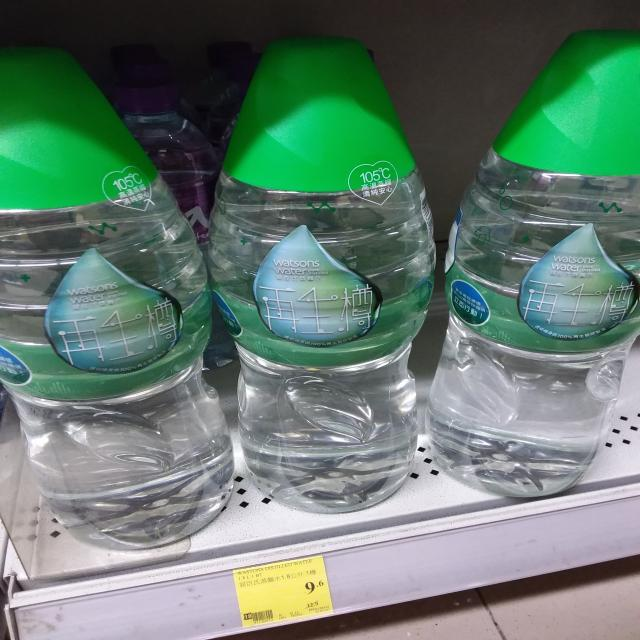plastic_bottle: (206, 34, 437, 514)
